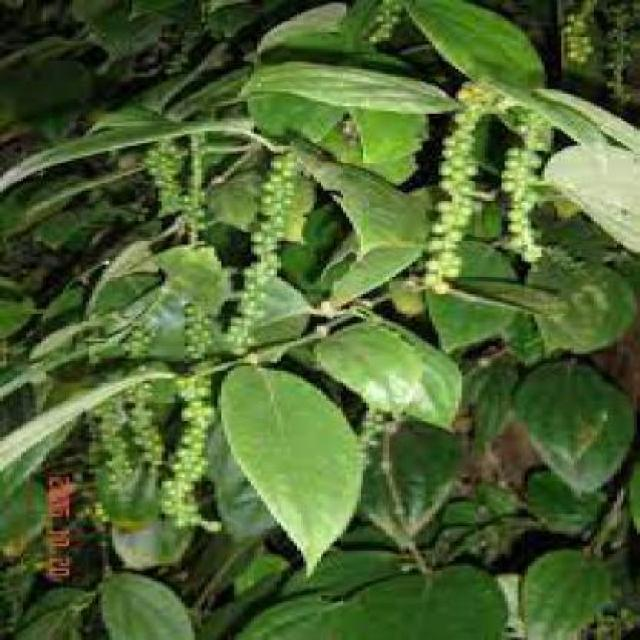UNRIPE: (416, 74, 476, 289), (155, 343, 214, 546), (239, 137, 285, 361), (139, 142, 196, 236), (505, 99, 531, 265)
